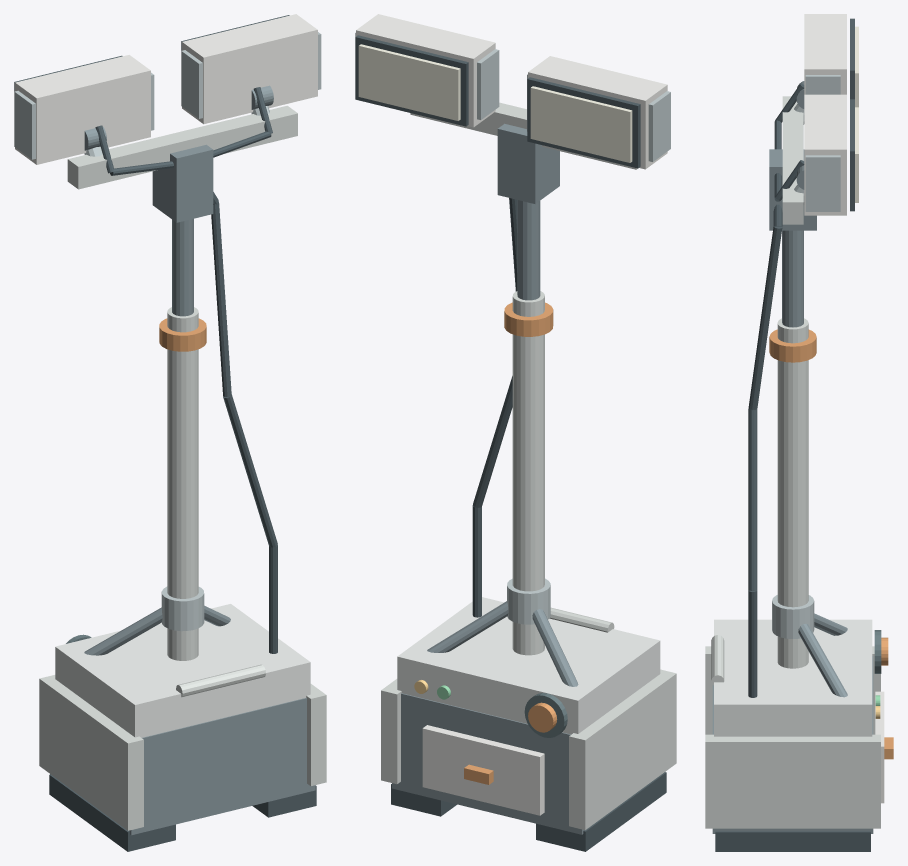
The model's file is portable_interior_work_light.glb.
3 renders of one model, left to right at view 1: azimuth 30°, elevation 25°; view 2: azimuth 150°, elevation 25°; view 3: azimuth 270°, elevation 25°, orthographic. The views are drawn at different scales.
Visible parts, largest first — view 1: lamp_housing_white_painted, battery_top_white_ceramic, battery_base_dark_alloy, side_bumpers_satin_steel, column_satin_steel, mounting_yoke_satin_steel, lamp_wiring_black_rubber, central_yoke_dark_alloy, anti_slip_feet_black_rubber, lamp_ribs_alloy, telescoping_shaft_dark_alloy, column_alloy (+4 smaller); view 2: battery_top_white_ceramic, side_bumpers_satin_steel, led_diffuser_light_diffuser, column_satin_steel, battery_base_dark_alloy, lamp_housing_white_painted, battery_hatch_white_painted, lamp_gasket_black_rubber, central_yoke_dark_alloy, anti_slip_feet_black_rubber, lamp_wiring_black_rubber, lamp_ribs_alloy (+8 smaller); view 3: side_bumpers_satin_steel, battery_top_white_ceramic, column_satin_steel, lamp_housing_white_painted, lamp_wiring_black_rubber, anti_slip_feet_black_rubber, lamp_ribs_alloy, mounting_yoke_satin_steel, telescoping_shaft_dark_alloy, braces_dark_alloy, column_alloy, central_yoke_dark_alloy (+6 smaller).
Part boxes in pixels (left/top/right/bottom): lamp_housing_white_painted: left=15, top=14, right=317, bottom=164; battery_top_white_ceramic: left=55, top=604, right=310, bottom=737; battery_base_dark_alloy: left=50, top=698, right=315, bottom=835; side_bumpers_satin_steel: left=39, top=675, right=326, bottom=830; column_satin_steel: left=167, top=307, right=198, bottom=660; mounting_yoke_satin_steel: left=67, top=105, right=297, bottom=189; lamp_wiring_black_rubber: left=95, top=87, right=277, bottom=653; central_yoke_dark_alloy: left=152, top=144, right=213, bottom=222; anti_slip_feet_black_rubber: left=49, top=774, right=316, bottom=851; lamp_ribs_alloy: left=14, top=32, right=321, bottom=159; telescoping_shaft_dark_alloy: left=172, top=218, right=193, bottom=316; column_alloy: left=161, top=586, right=204, bottom=631; battery_top_white_ceramic: left=397, top=597, right=660, bottom=734; side_bumpers_satin_steel: left=381, top=669, right=676, bottom=830; led_diffuser_light_diffuser: left=358, top=44, right=632, bottom=162; column_satin_steel: left=512, top=291, right=544, bottom=655; battery_base_dark_alloy: left=392, top=693, right=584, bottom=834; lamp_housing_white_painted: left=356, top=14, right=667, bottom=169; battery_hatch_white_painted: left=422, top=725, right=544, bottom=815; lamp_gasket_black_rubber: left=355, top=35, right=640, bottom=168; central_yoke_dark_alloy: left=497, top=123, right=559, bottom=203; anti_slip_feet_black_rubber: left=391, top=772, right=666, bottom=851; lamp_wiring_black_rubber: left=472, top=198, right=517, bottom=617; lamp_ribs_alloy: left=355, top=32, right=670, bottom=161; side_bumpers_satin_steel: left=705, top=646, right=880, bottom=828; battery_top_white_ceramic: left=714, top=619, right=872, bottom=736; column_satin_steel: left=777, top=318, right=808, bottom=668; lamp_housing_white_painted: left=804, top=14, right=846, bottom=215; lamp_wiring_black_rubber: left=748, top=83, right=804, bottom=697; anti_slip_feet_black_rubber: left=715, top=831, right=870, bottom=851; lamp_ribs_alloy: left=805, top=75, right=840, bottom=211; mounting_yoke_satin_steel: left=782, top=96, right=803, bottom=224; telescoping_shaft_dark_alloy: left=782, top=230, right=803, bottom=327; braces_dark_alloy: left=798, top=613, right=847, bottom=697; column_alloy: left=772, top=595, right=814, bottom=638; central_yoke_dark_alloy: left=769, top=149, right=816, bottom=230.
Size of the model in its own units: 0.658 by 1.59 by 0.3755.
